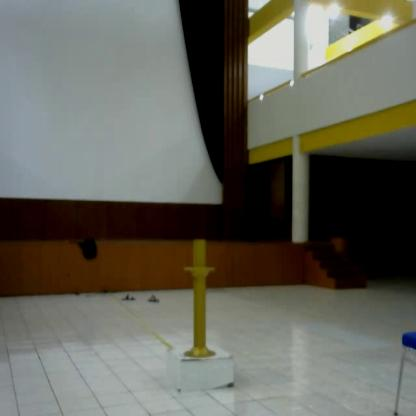pole: (181, 234, 225, 365)
